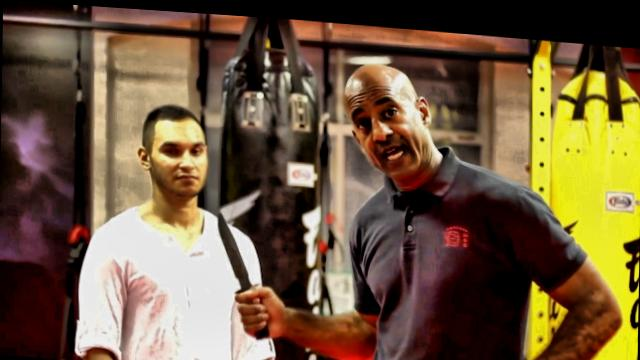knife: (209, 200, 280, 343)
